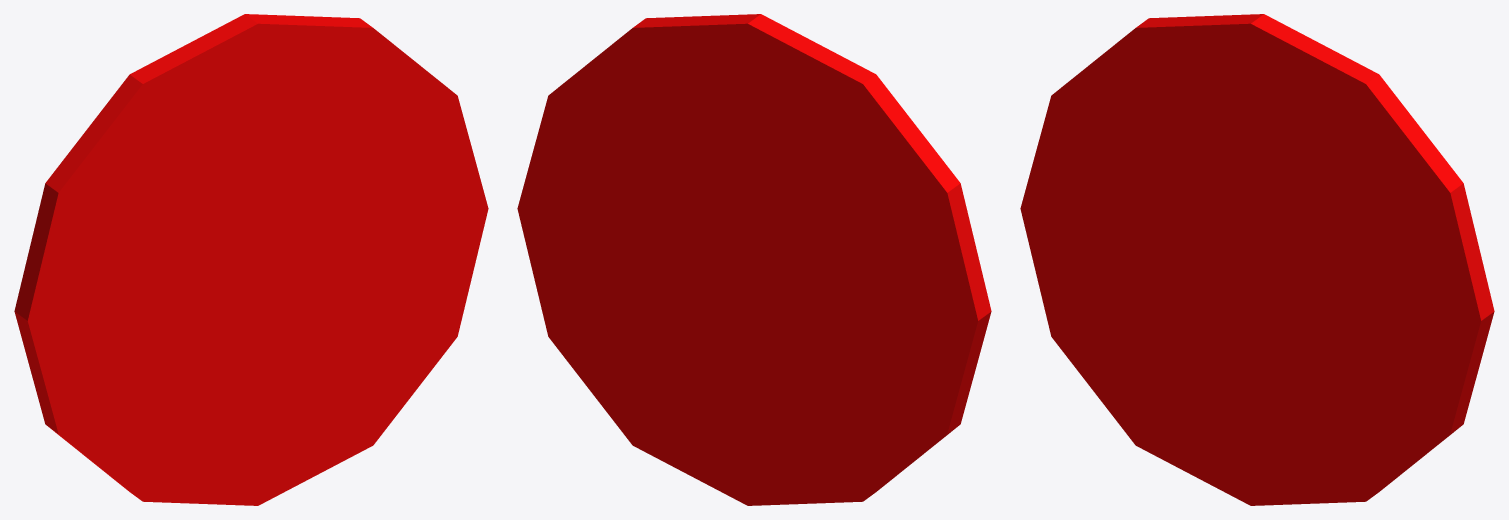
3 renders of one model, left to right at view 1: azimuth 30°, elevation 25°; view 2: azimuth 150°, elevation 25°; view 3: azimuth 330°, elevation 25°, orthographic.
Visible parts, largest first — view 1: LINK0_link; view 2: LINK0_link; view 3: LINK0_link.
Part boxes in pixels (left/top/right/bottom): LINK0_link: left=14, top=14, right=488, bottom=505; LINK0_link: left=517, top=14, right=991, bottom=505; LINK0_link: left=1020, top=14, right=1494, bottom=505.
Size of the model in its own units: 0.1 by 0.1 by 0.005.
